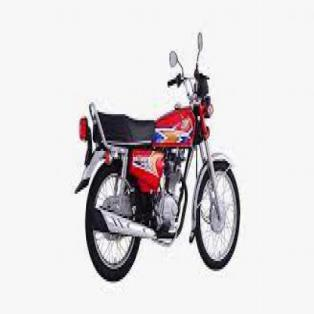Motocicleta: (75, 26, 242, 286)
